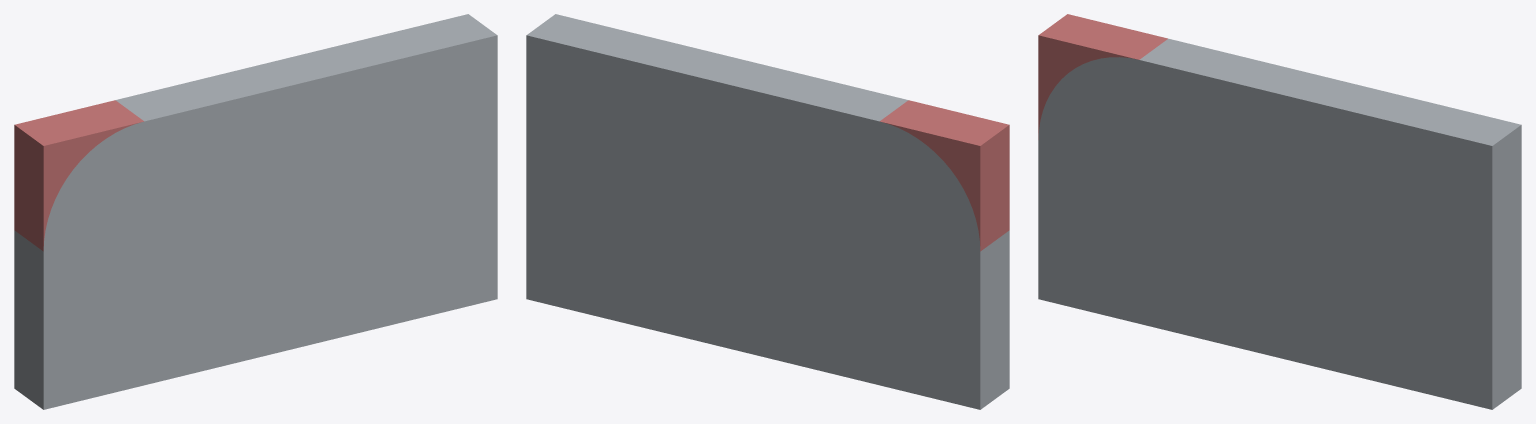
Rendered from step_02.glb.
The picture shows the model from 3 angles, left to right: view 1: azimuth 30°, elevation 25°; view 2: azimuth 150°, elevation 25°; view 3: azimuth 330°, elevation 25°; orthographic projection.
Parts seen in each view (by area): view 1: part__vee notch plate, removed__vee notch plate; view 2: part__vee notch plate, removed__vee notch plate; view 3: part__vee notch plate, removed__vee notch plate.
Part boxes in pixels (bbox=[...]): part__vee notch plate: bbox=[14, 14, 497, 409]; removed__vee notch plate: bbox=[14, 100, 143, 251]; part__vee notch plate: bbox=[526, 14, 1009, 409]; removed__vee notch plate: bbox=[880, 100, 1009, 251]; part__vee notch plate: bbox=[1038, 38, 1521, 409]; removed__vee notch plate: bbox=[1038, 14, 1167, 139].
Bounding box in the file's own units: 90 × 50 × 10.
